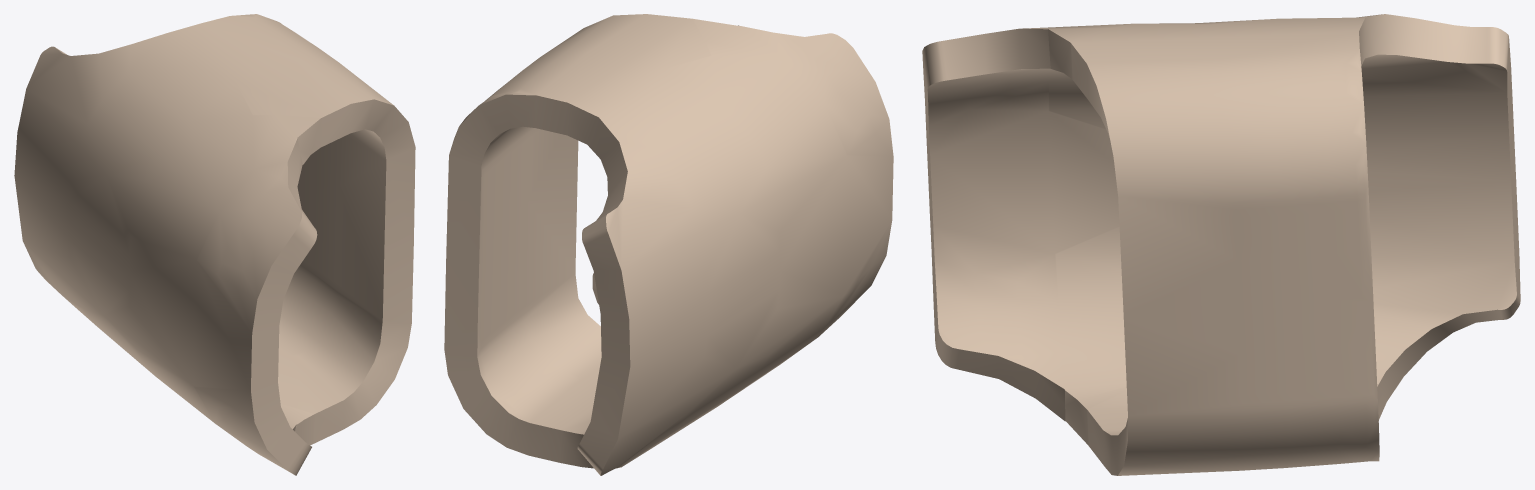
Rendered from r_hand_I_0.obj.
3 views of the same model, side by side, from view 1: azimuth 30°, elevation 25°; view 2: azimuth 150°, elevation 25°; view 3: azimuth 270°, elevation 25° (orthographic). The views are drawn at different scales.
Size of the model in its own units: 17.47 by 22.55 by 29.56.
